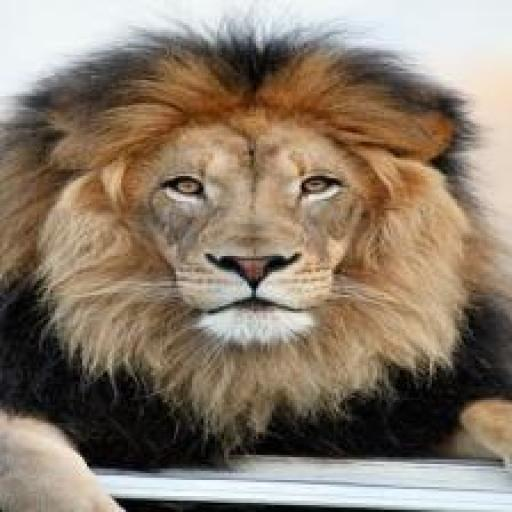lion: (9, 36, 490, 366)
